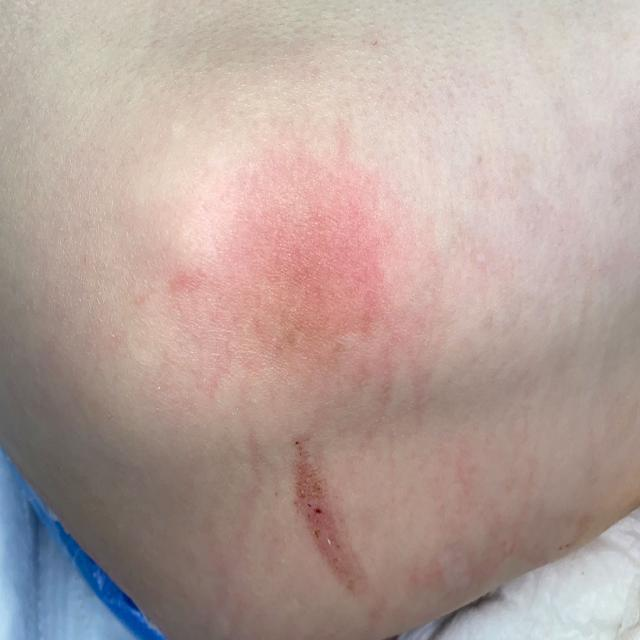stage-1: (185, 156, 387, 366), (301, 436, 372, 615)
